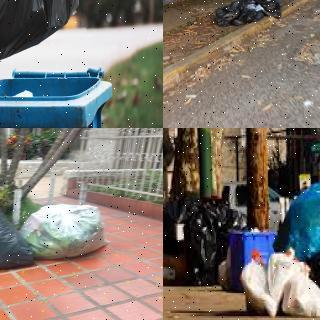Garbage: (0, 0, 86, 61), (20, 204, 112, 259), (277, 176, 320, 257), (0, 183, 37, 272), (235, 247, 277, 314), (278, 268, 320, 316), (215, 5, 238, 26), (231, 0, 253, 10), (260, 0, 277, 11)
